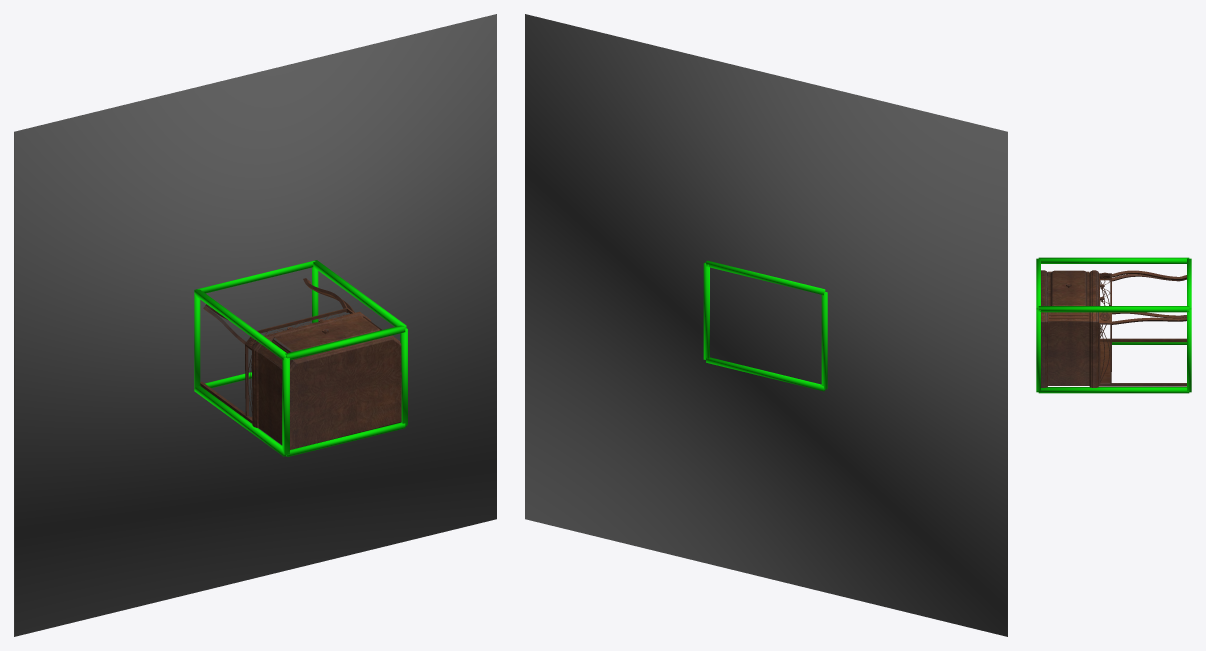
The picture shows the model from 3 angles, left to right: view 1: azimuth 30°, elevation 25°; view 2: azimuth 150°, elevation 25°; view 3: azimuth 270°, elevation 25°; orthographic projection. The views are drawn at different scales.
Bounding box in the file's own units: 2 × 2 × 0.6631.
